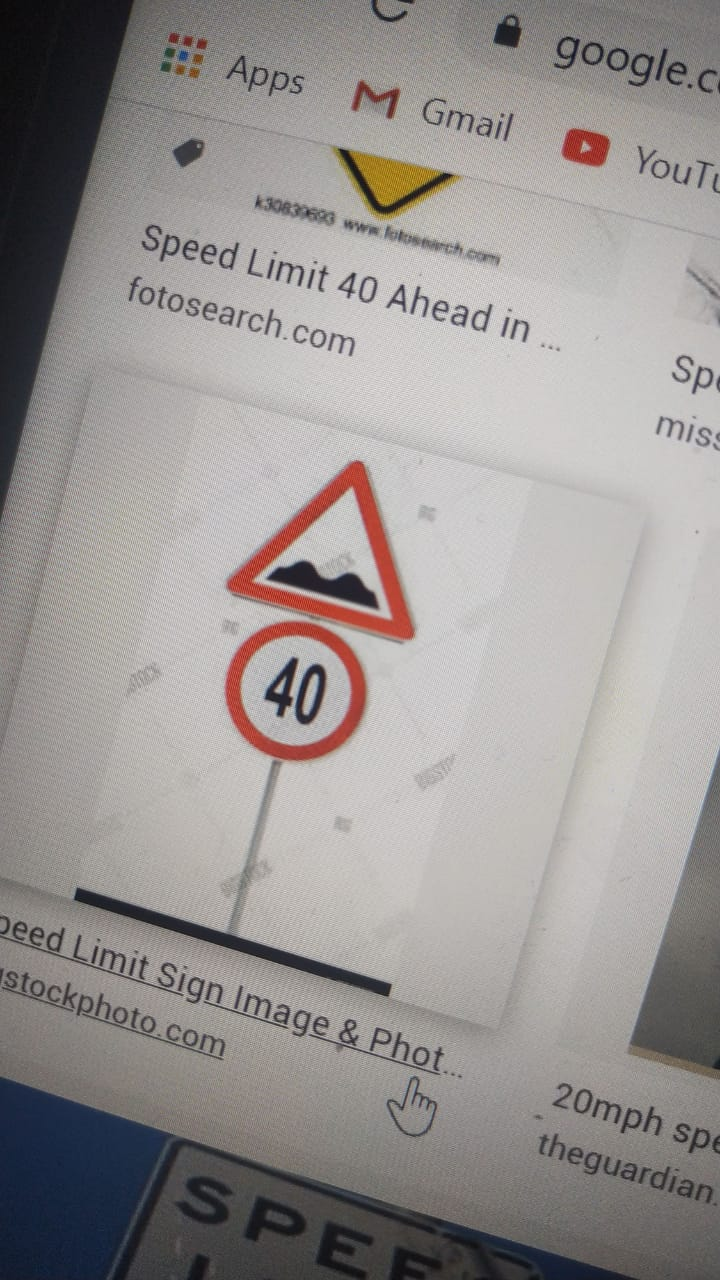SPEED LIMIT (40 KM/H): (232, 626, 363, 758)
UNEVEN ROAD: (222, 411, 460, 652)
